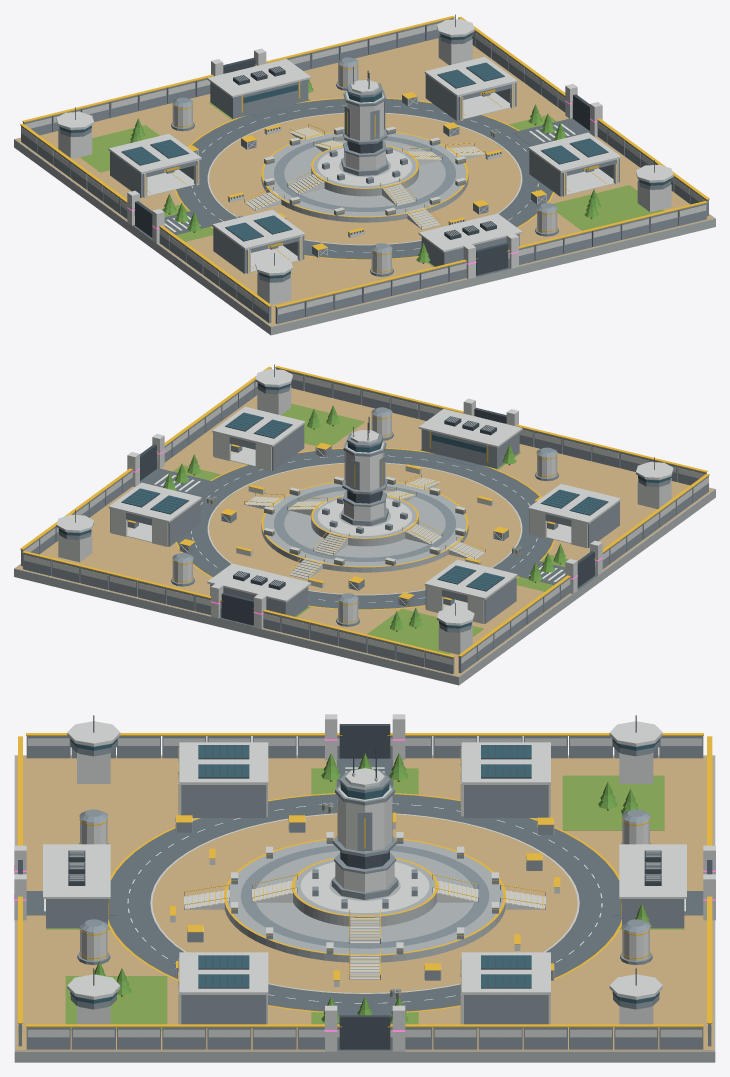
The model's file is sunspire-arena.glb.
3 views of the same model, one above another, from view 1: azimuth 30°, elevation 25°; view 2: azimuth 150°, elevation 25°; view 3: azimuth 270°, elevation 25° (orthographic). The views are drawn at different scales.
Parts seen in each view (by area): view 1: Sunspire architecture, Sunspire ground, Sunspire vegetation; view 2: Sunspire architecture, Sunspire ground, Sunspire vegetation; view 3: Sunspire ground, Sunspire architecture, Sunspire vegetation.
Part boxes in pixels (bbox=[...]): Sunspire architecture: bbox=[20, 14, 709, 323]; Sunspire ground: bbox=[14, 38, 715, 335]; Sunspire vegetation: bbox=[129, 79, 600, 263]; Sunspire architecture: bbox=[20, 364, 709, 673]; Sunspire ground: bbox=[14, 388, 715, 685]; Sunspire vegetation: bbox=[163, 405, 567, 631]; Sunspire ground: bbox=[14, 755, 715, 1062]; Sunspire architecture: bbox=[14, 714, 715, 1051]; Sunspire vegetation: bbox=[94, 753, 651, 1022].
Size of what is drawn, in the model's own units: 124 by 31.7 by 124.
